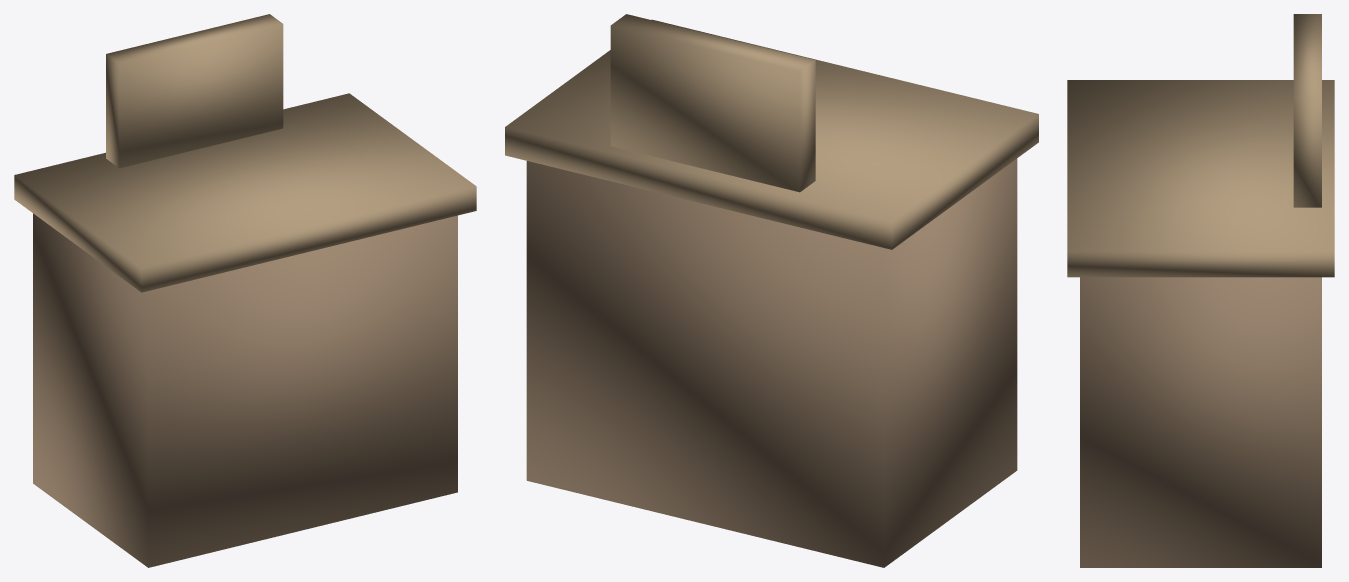
Rendered from witness_stand__wide.glb.
3 views of the same model, side by side, from view 1: azimuth 30°, elevation 25°; view 2: azimuth 150°, elevation 25°; view 3: azimuth 270°, elevation 25° (orthographic). The views are drawn at different scales.
Visible parts, largest first — view 1: world; view 2: world; view 3: world.
Part boxes in pixels (x1,y1,x2,y2): world: (14,14,476,567); world: (505,14,1038,567); world: (1067,14,1334,567).
Size of the model in its own units: 1.14 by 1.34 by 0.75.
